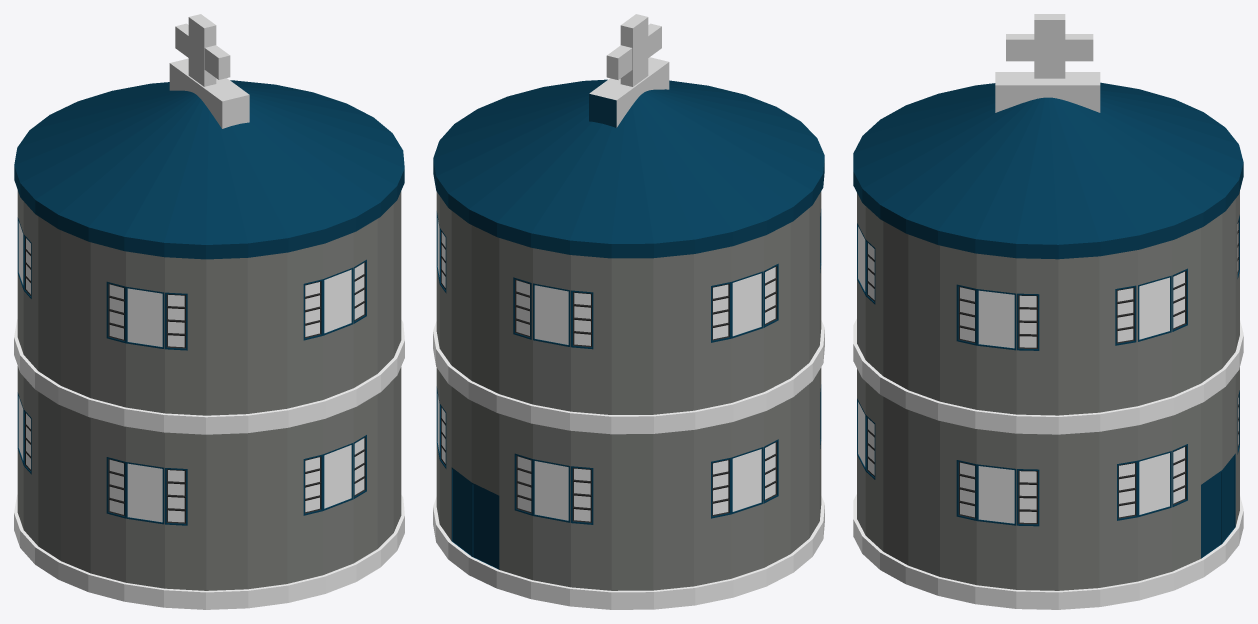
Rendered from Church.fbx.
The picture shows the model from 3 angles, left to right: view 1: azimuth 30°, elevation 25°; view 2: azimuth 150°, elevation 25°; view 3: azimuth 270°, elevation 25°; orthographic projection.
Parts seen in each view (by area): view 1: building_003; view 2: building_003; view 3: building_003.
Boxes of the visible parts, x1,y1,x2,y2 form: building_003: (14,14,404,609); building_003: (433,14,824,609); building_003: (853,14,1243,609).
Bounding box in the file's own units: 2467 × 3630 × 2463.
